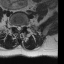CCS_normal: (18, 24, 20, 32)
LFS_normal: (22, 23, 24, 29)
LLS_normal: (20, 23, 22, 30)
RFS_stenosis: (13, 23, 16, 30)
RLS_normal: (16, 23, 18, 31)
